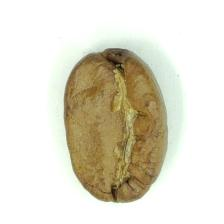NG: (77, 54, 152, 197)
